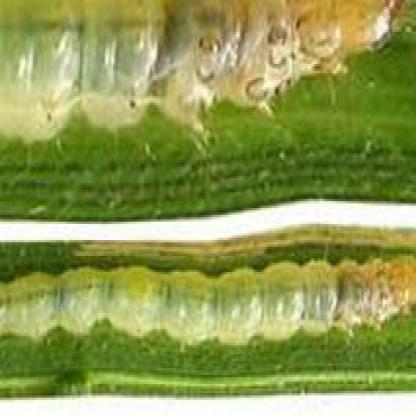leaf-folder: (0, 0, 405, 153), (12, 240, 416, 356)
